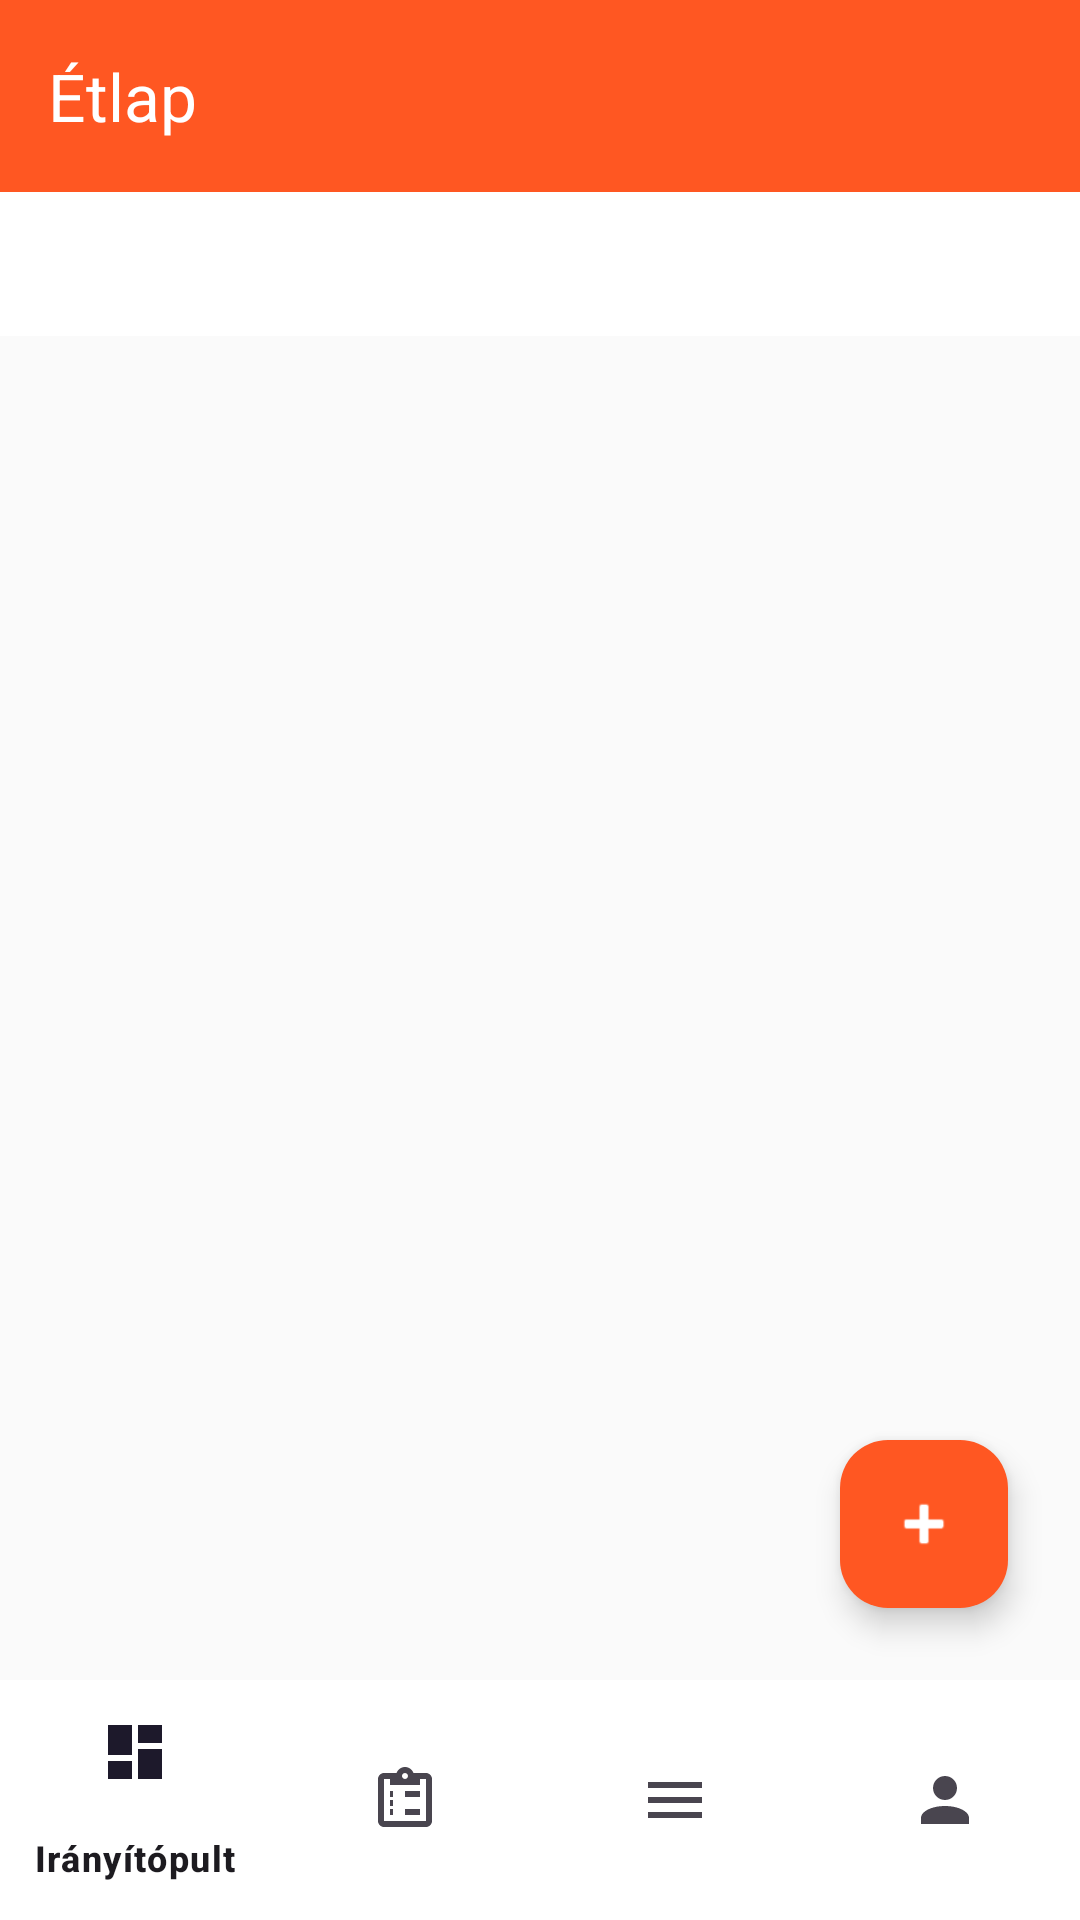

Screen size 1080*1920. Icon name, then its box in pixels as (x1, y1, x2, y2):
Új étel hozzáadása: (840, 1440, 1008, 1608)
